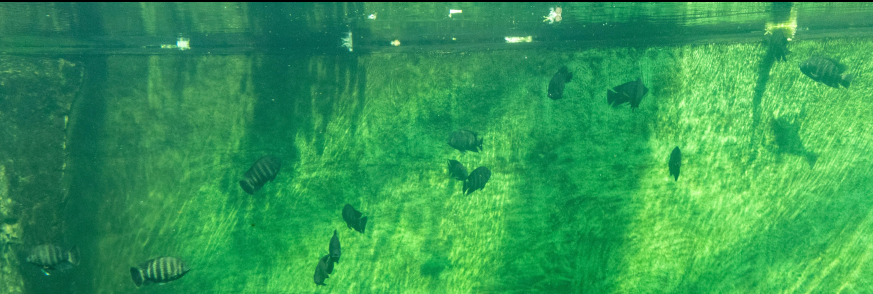fishRound: (22, 236, 80, 278), (799, 52, 854, 91), (128, 254, 190, 288), (240, 153, 282, 196), (447, 127, 484, 154), (460, 165, 491, 197), (342, 202, 367, 235), (313, 254, 332, 287), (446, 156, 467, 181), (328, 229, 342, 265)
